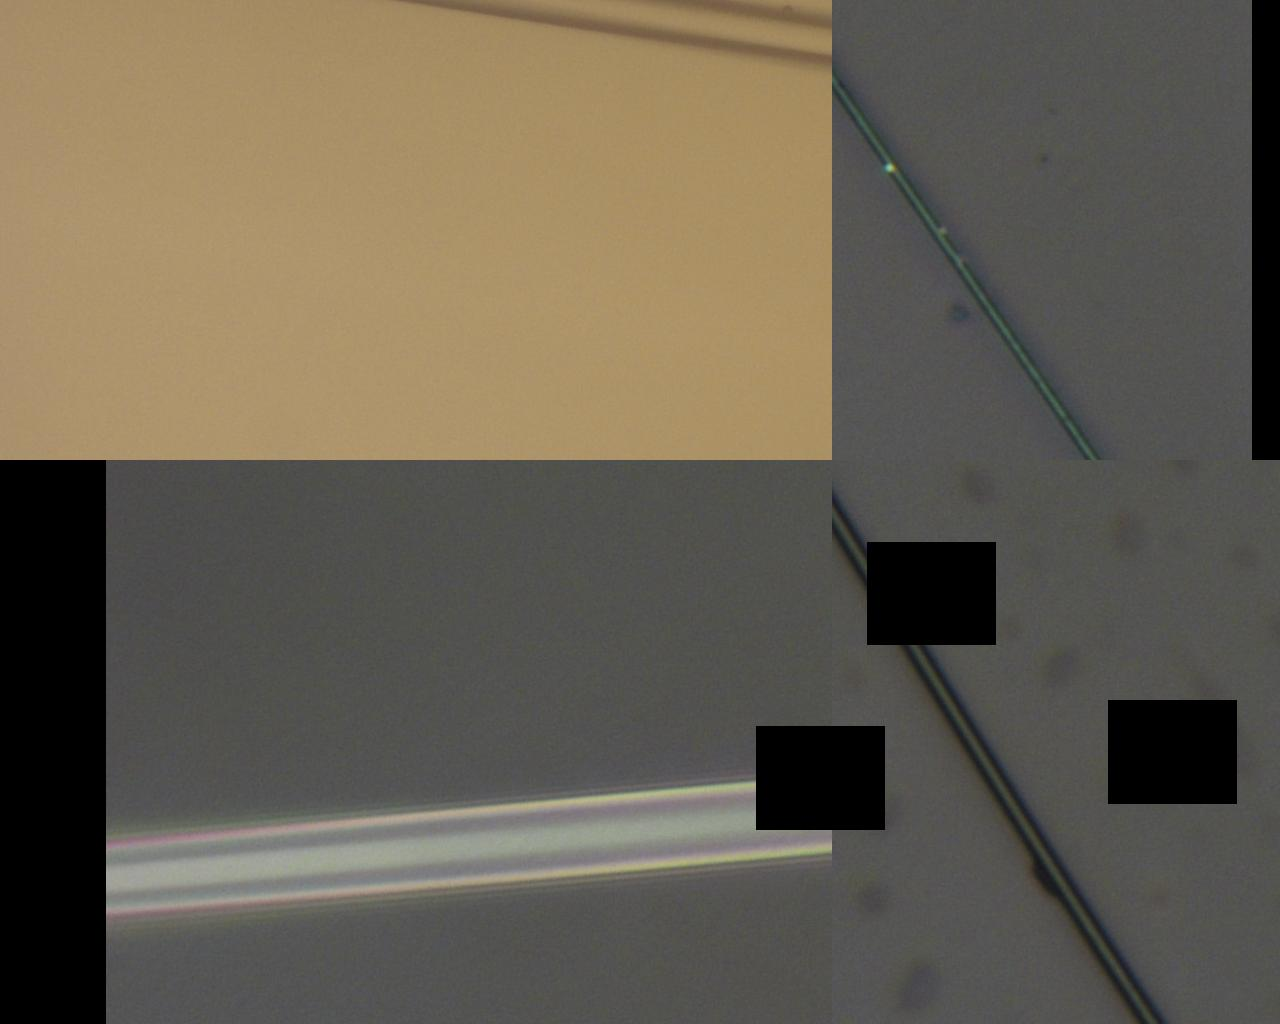fiber: (742, 0, 948, 542), (131, 0, 252, 542)
